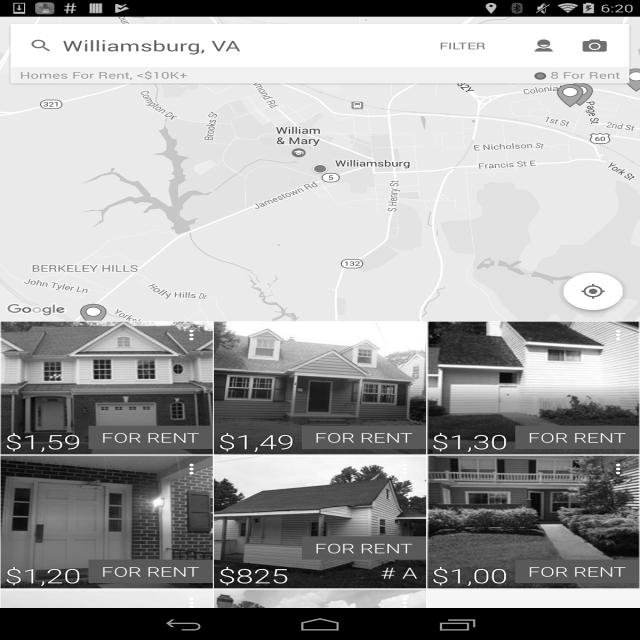Button: (416, 24, 510, 67)
EditText: (62, 24, 407, 67)
ImageButton: (550, 261, 636, 322)
ImageView: (0, 322, 213, 454), (427, 322, 640, 454), (0, 456, 213, 588), (427, 456, 640, 588), (214, 322, 426, 454), (214, 456, 426, 588), (213, 589, 426, 640), (0, 589, 212, 640), (153, 322, 213, 359), (153, 456, 213, 493), (153, 590, 213, 627), (367, 322, 426, 359), (580, 322, 639, 359), (367, 456, 426, 493), (580, 456, 639, 493), (367, 590, 426, 627), (5, 303, 70, 317), (28, 38, 54, 54)
TextView: (20, 69, 534, 81), (302, 536, 426, 560), (88, 426, 213, 449), (515, 426, 640, 449), (88, 560, 213, 583), (515, 560, 640, 583), (302, 426, 426, 449), (218, 428, 298, 454), (431, 428, 511, 454), (218, 562, 298, 588), (431, 562, 511, 588), (5, 428, 84, 454), (5, 562, 84, 588), (518, 29, 569, 62), (569, 29, 620, 62), (534, 69, 620, 81), (380, 562, 418, 583)
